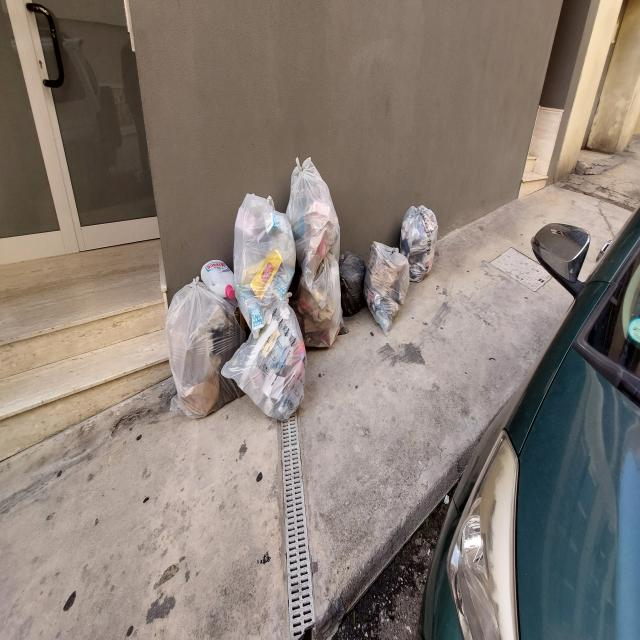Mixed Waste -Black Bag-: (341, 252, 368, 322)
Other: (201, 259, 237, 300)
Recycled Waste -Grey or Green Bag-: (165, 275, 246, 420), (286, 158, 344, 355), (224, 295, 307, 422), (234, 190, 299, 338), (365, 239, 412, 338), (401, 204, 440, 286)
